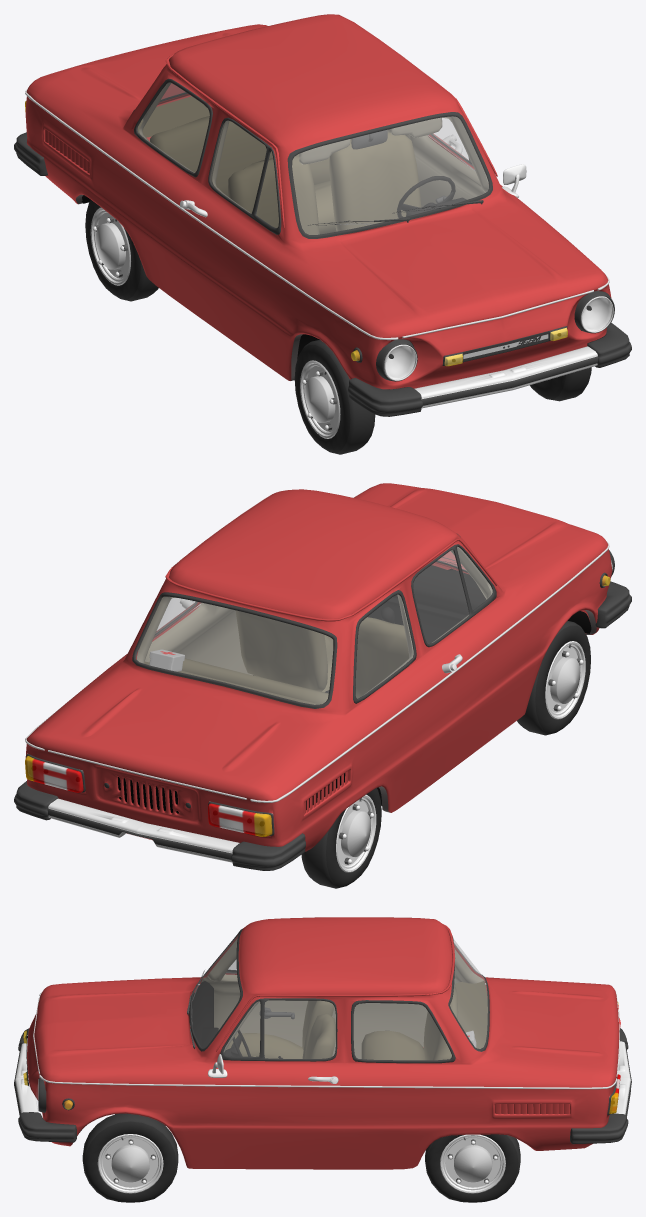
Rendered from oldmodelzaz.glb.
The picture shows the model from 3 angles, top to bottom: view 1: azimuth 30°, elevation 25°; view 2: azimuth 150°, elevation 25°; view 3: azimuth 270°, elevation 25°; orthographic projection. The views are drawn at different scales.
Visible parts, largest first — view 1: Empty_Mesh; view 2: Empty_Mesh; view 3: Empty_Mesh.
Boxes of the visible parts, <box> form: Empty_Mesh: <box>14,14,631,454</box>; Empty_Mesh: <box>14,483,631,888</box>; Empty_Mesh: <box>14,917,631,1202</box>.
Bounding box in the file's own units: 1.14 × 1.01 × 2.69.
28 materials, 1 textured.
